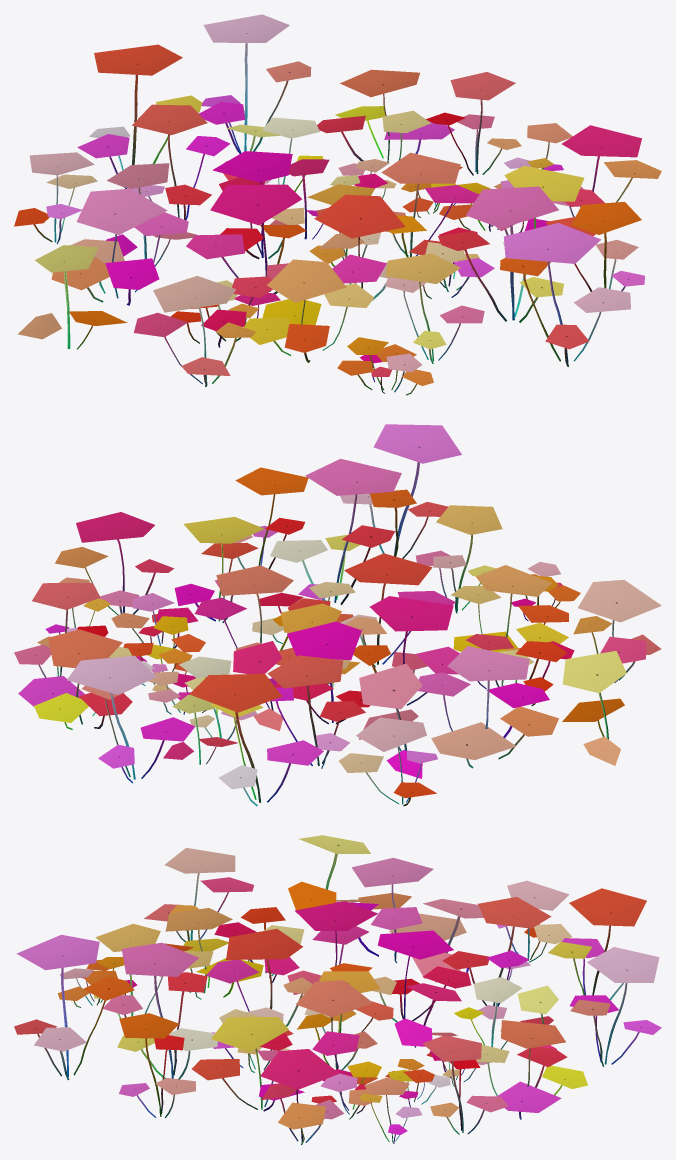
Rendered from Wood_Sorrel_wcwmchzja_Mid_wcwmchzja_VarA_LOD0.fbx.
3 views of the same model, one above another, from view 1: azimuth 30°, elevation 25°; view 2: azimuth 150°, elevation 25°; view 3: azimuth 270°, elevation 25° (orthographic). The views are drawn at different scales.
Parts seen in each view (by area): view 1: _mt9p_VarA_LOD1; view 2: _mt9p_VarA_LOD1; view 3: _mt9p_VarA_LOD1.
Boxes of the visible parts, x1,y1,x2,y2 form: _mt9p_VarA_LOD1: [14, 14, 661, 395]; _mt9p_VarA_LOD1: [14, 424, 661, 806]; _mt9p_VarA_LOD1: [14, 835, 661, 1144].
Size of the model in its own units: 50.81 by 10.6 by 51.5.
